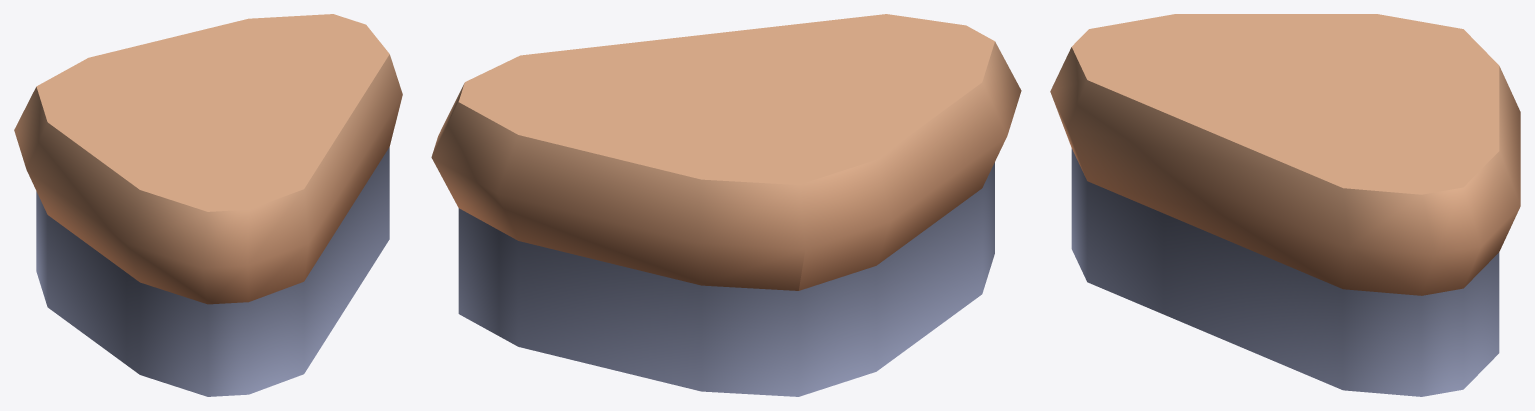
The model's file is block-grass-corner-low.glb.
3 views of the same model, side by side, from view 1: azimuth 30°, elevation 25°; view 2: azimuth 150°, elevation 25°; view 3: azimuth 270°, elevation 25° (orthographic). The views are drawn at different scales.
Parts seen in each view (by area): view 1: block-grass-corner-low; view 2: block-grass-corner-low; view 3: block-grass-corner-low.
Boxes of the visible parts, <box> form: block-grass-corner-low: <box>14,14,402,396</box>; block-grass-corner-low: <box>431,14,1021,396</box>; block-grass-corner-low: <box>1050,14,1520,396</box>.
Bounding box in the file's own units: 1.05 × 0.5 × 1.05.
